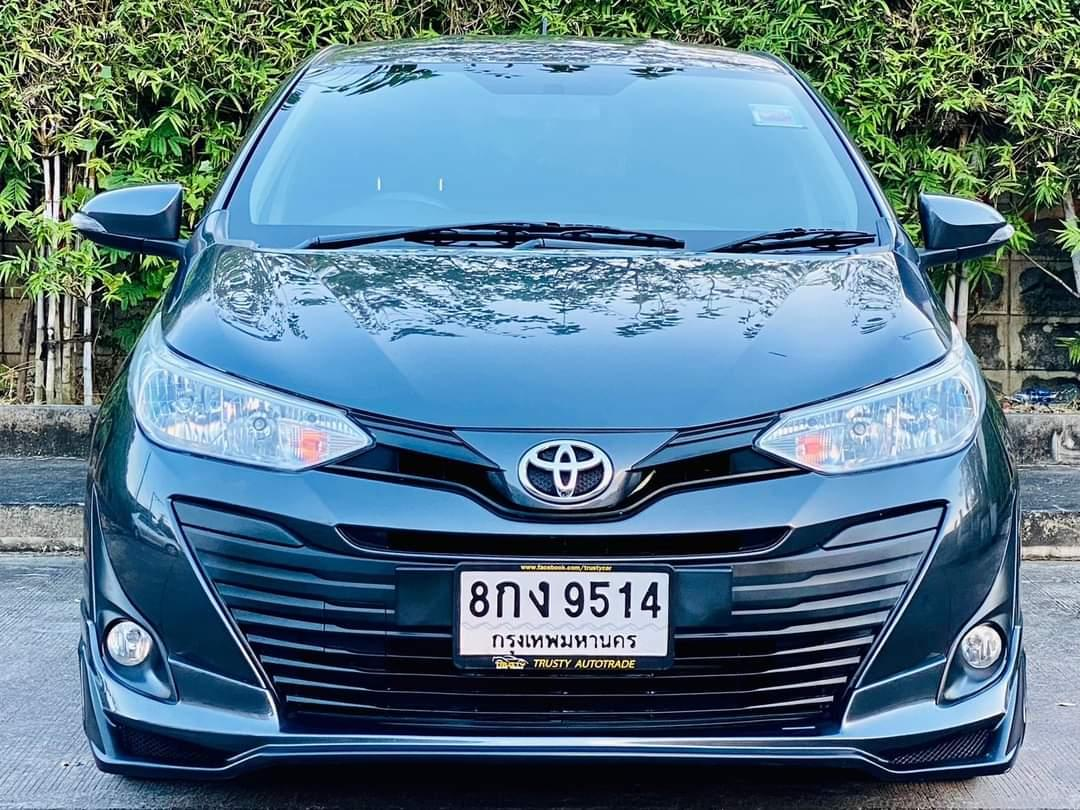license-plate: (450, 560, 678, 676)
